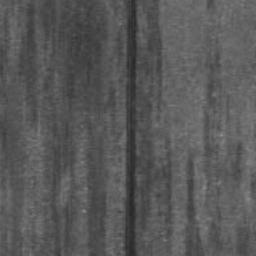Scratches: (124, 0, 138, 256)
